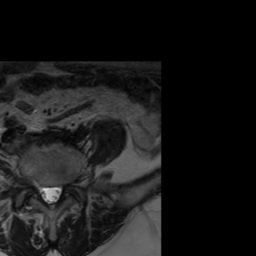CCS_normal: (46, 177, 54, 215)
LFS_severe_stenosis: (63, 174, 72, 196)
LLS_normal: (54, 177, 63, 208)
RFS_normal: (29, 170, 39, 197)
RLS_normal: (39, 178, 46, 208)
